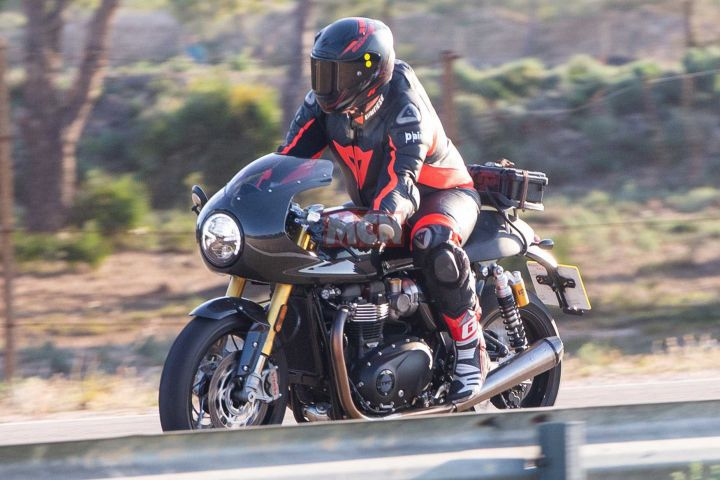with_helmet: (308, 17, 396, 115)
